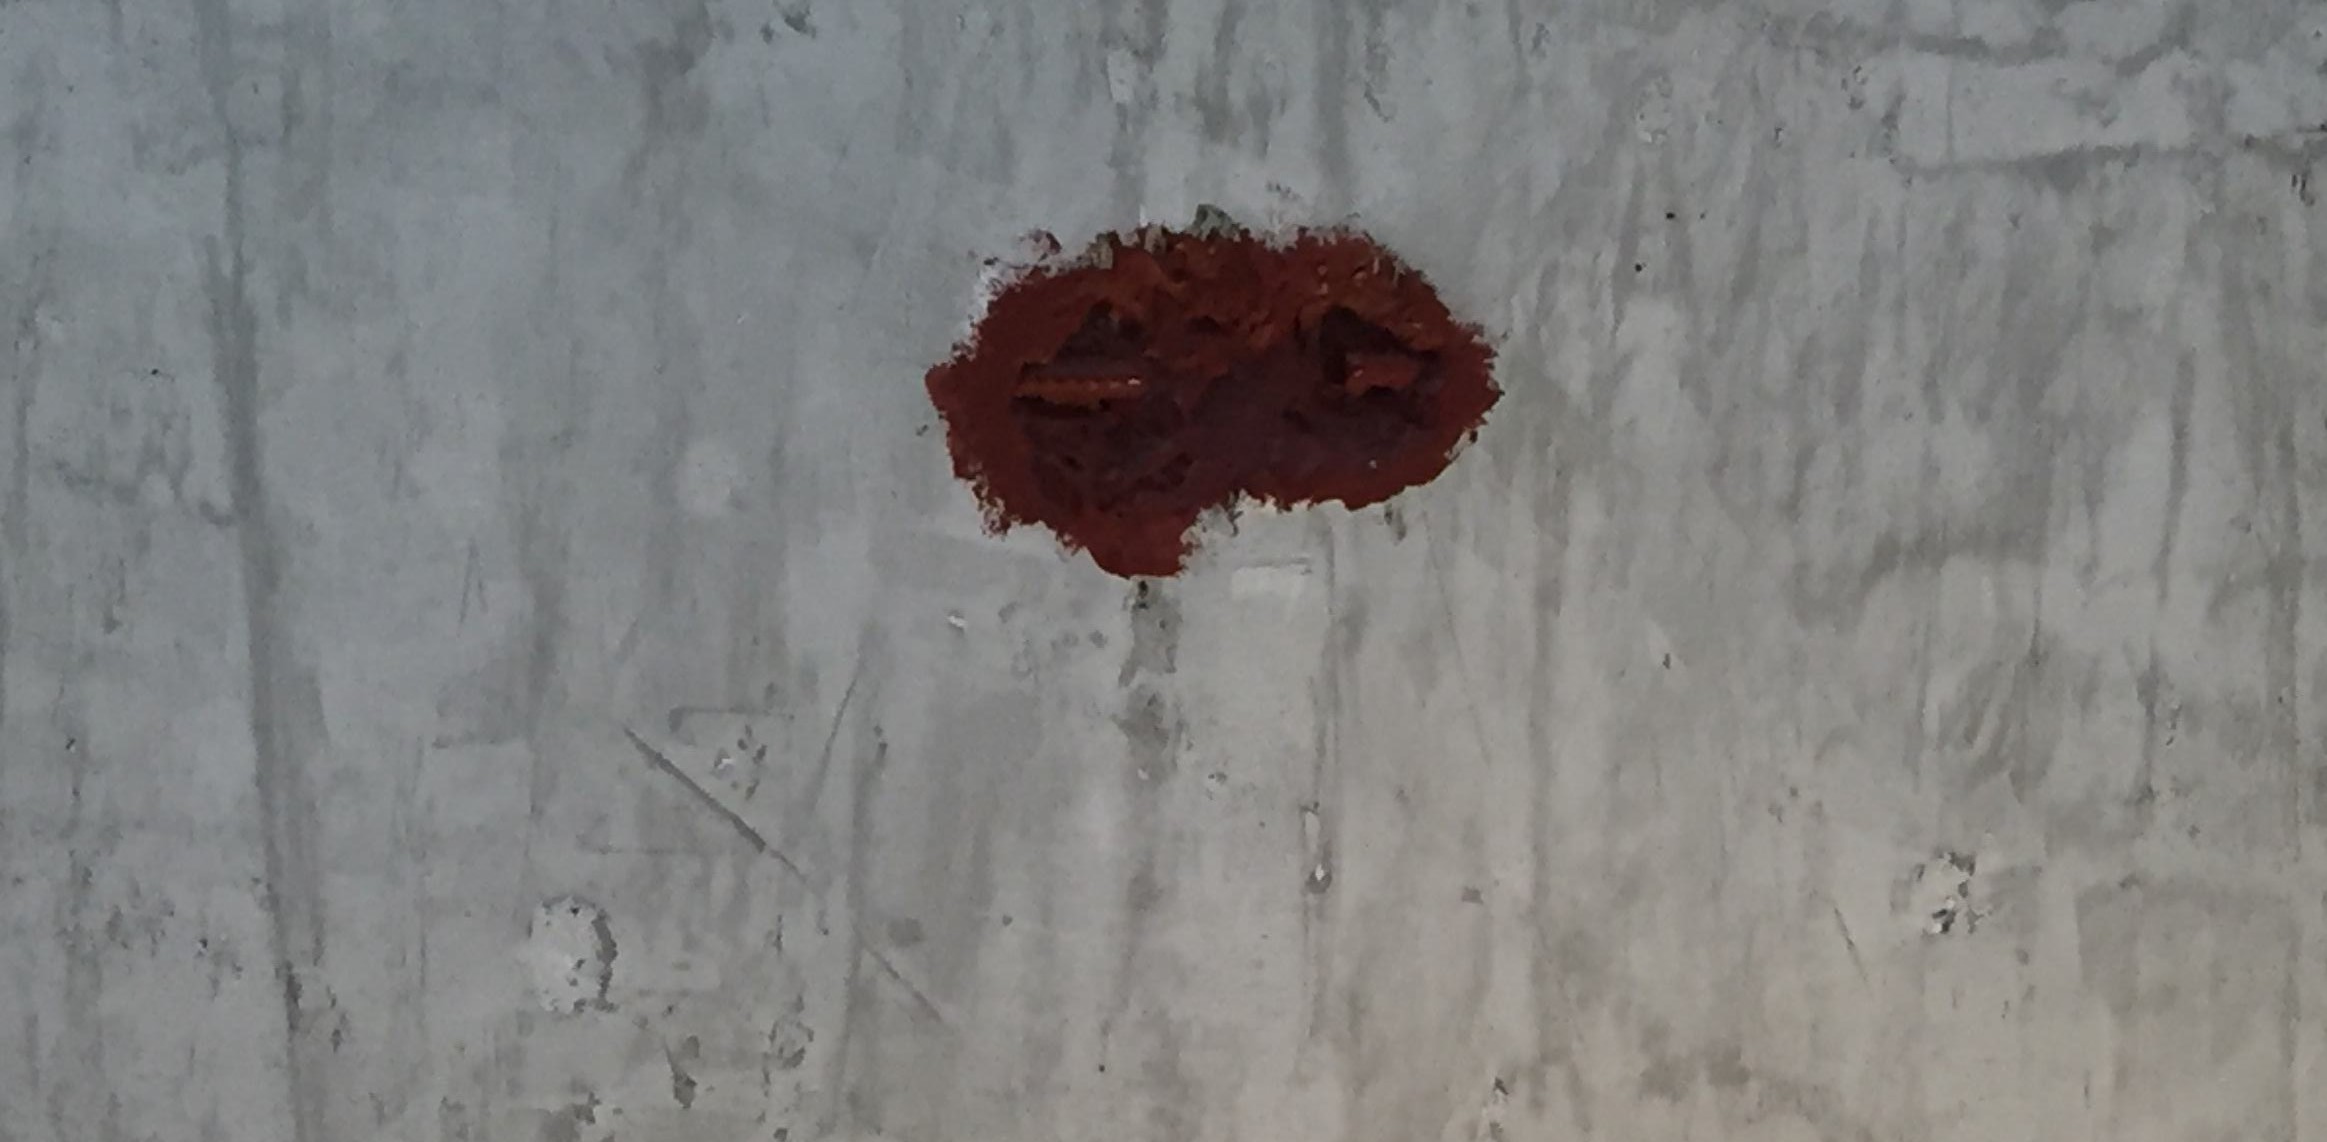Exposed reinforcement: (1012, 357, 1149, 406), (1342, 347, 1431, 400)
Spalling: (922, 221, 1506, 581)
